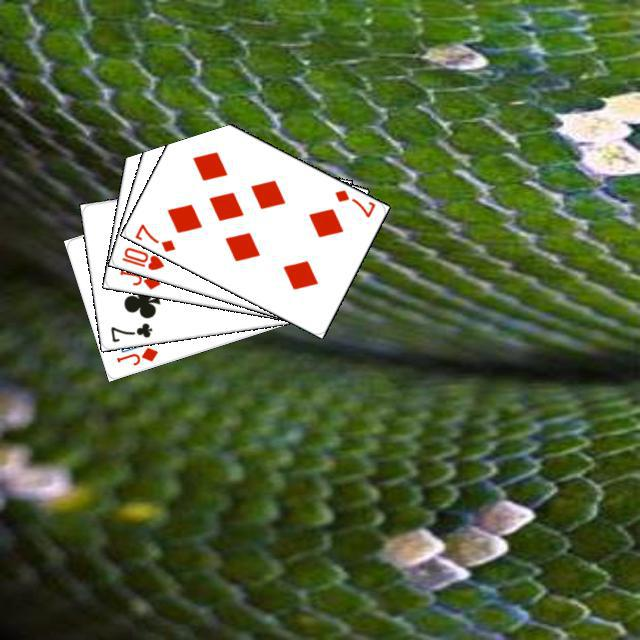10h: (117, 242, 166, 272)
7c: (106, 318, 154, 344)
7d: (130, 219, 177, 254), (330, 184, 377, 219)
Jd: (115, 264, 162, 291), (111, 342, 160, 367)
